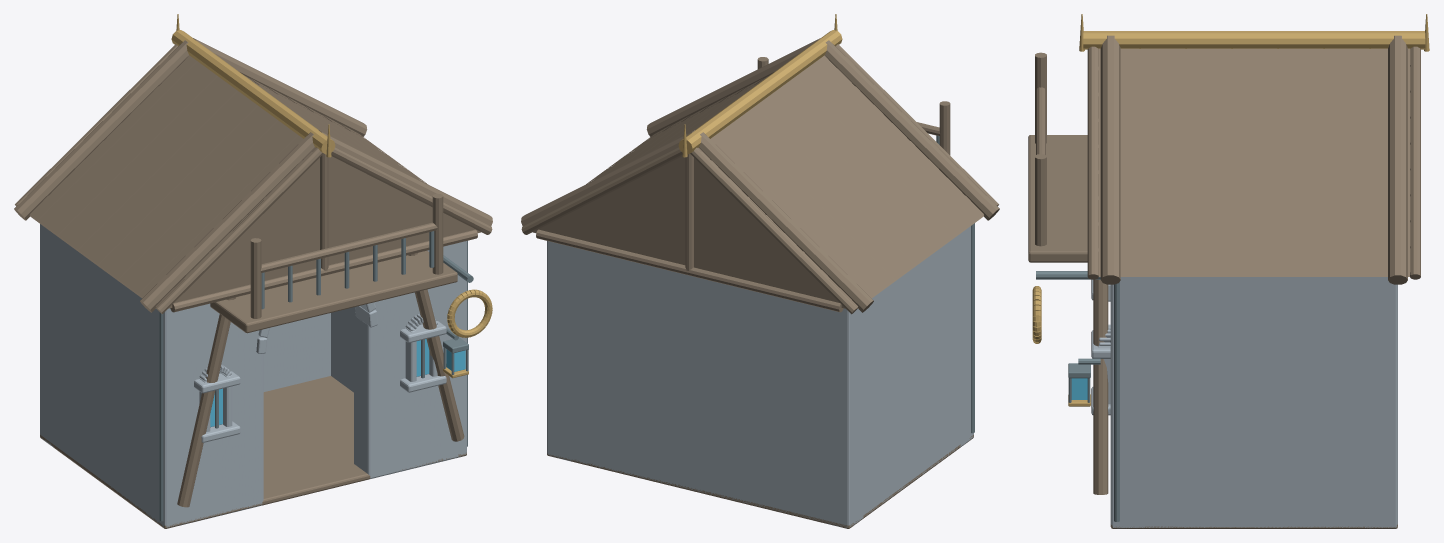
Rendered from a3_service_5.glb.
The picture shows the model from 3 angles, left to right: view 1: azimuth 30°, elevation 25°; view 2: azimuth 150°, elevation 25°; view 3: azimuth 270°, elevation 25°; orthographic projection. The views are drawn at different scales.
Parts seen in each view (by area): view 1: Roof.011, Front.011, Side.011, Body.020; view 2: Roof.011, Body.020, Side.011, Front.011; view 3: Roof.011, Side.011, Front.011, Body.020.
Boxes of the visible parts, bbox=[...] form: Roof.011: bbox=[14, 14, 492, 333]; Front.011: bbox=[151, 241, 492, 527]; Side.011: bbox=[40, 225, 467, 527]; Body.020: bbox=[40, 224, 466, 528]; Roof.011: bbox=[521, 14, 999, 314]; Body.020: bbox=[547, 241, 973, 528]; Side.011: bbox=[547, 223, 974, 527]; Front.011: bbox=[960, 226, 973, 447]; Roof.011: bbox=[1028, 14, 1429, 284]; Side.011: bbox=[1110, 277, 1395, 527]; Front.011: bbox=[1032, 271, 1143, 528]; Body.020: bbox=[1110, 277, 1397, 528].
Bounding box in the file's own units: 3.69 × 3.81 × 3.21.
